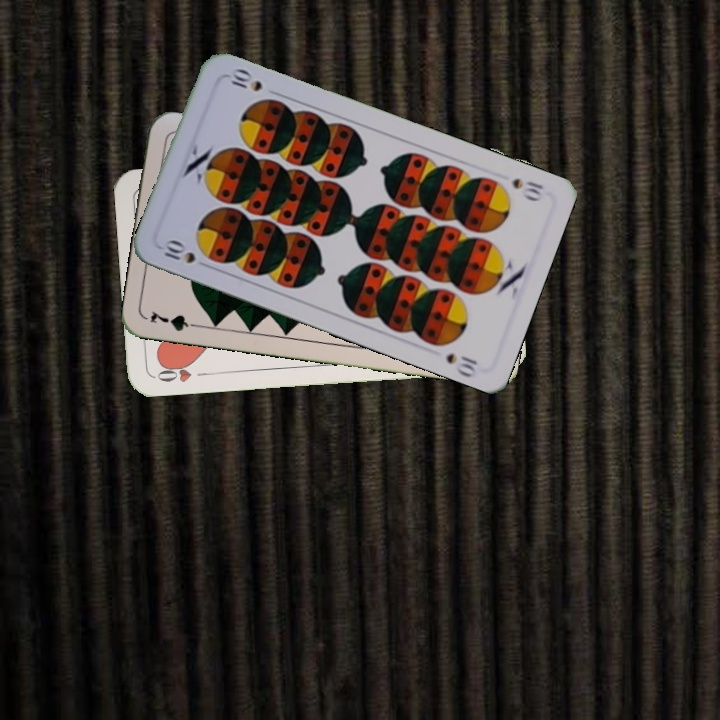G7: (146, 306, 205, 334)
HO: (151, 358, 210, 385)
S10: (156, 235, 213, 271), (508, 174, 546, 204)
